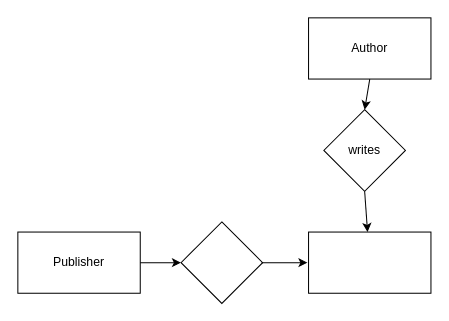
Some shapes in this 449 by 321 pixel diagram are drawn without their labels. Each missing label, with the centre of its shape:
Book: (369,262)
publishes: (221,262)
